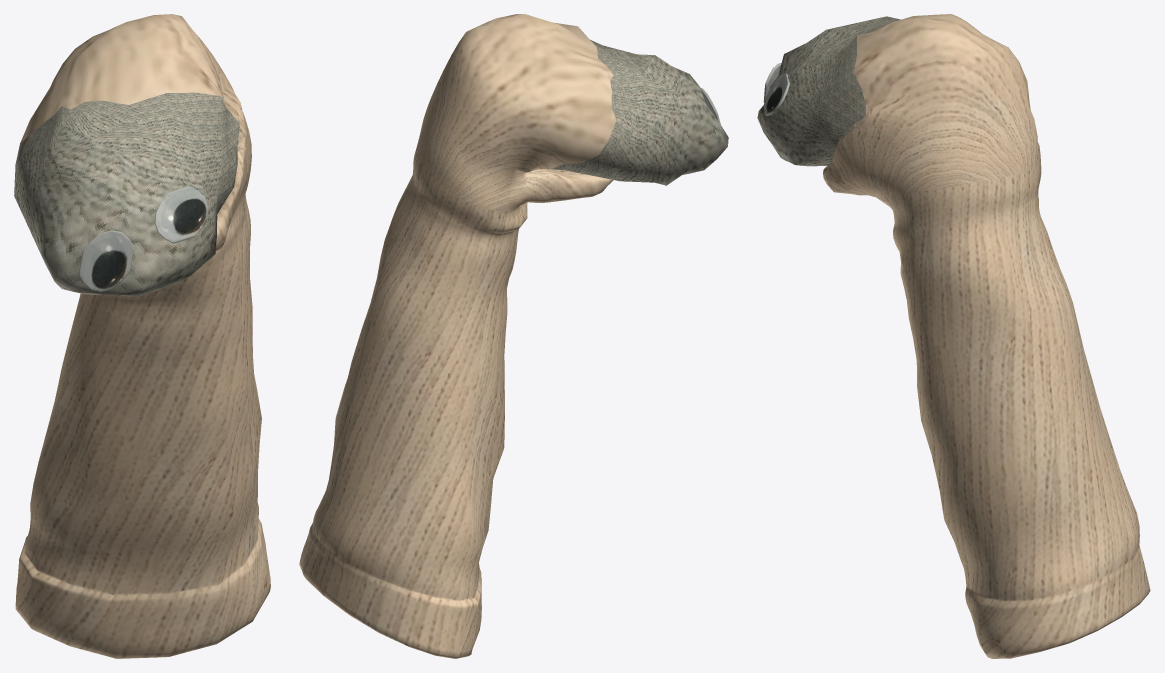
Rendered from arts_and_crafts_sock_puppet_baldis_basics.glb.
3 renders of one model, left to right at view 1: azimuth 30°, elevation 25°; view 2: azimuth 150°, elevation 25°; view 3: azimuth 270°, elevation 25°, orthographic. The views are drawn at different scales.
Parts seen in each view (by area): view 1: Cube, Circle.001, Circle; view 2: Cube; view 3: Cube, Circle.
Part boxes in pixels (x1=…): Cube: x1=14, y1=14, x2=270, y2=658; Circle.001: x1=78, y1=230, x2=134, y2=291; Circle: x1=155, y1=186, x2=208, y2=243; Cube: x1=299, y1=14, x2=728, y2=658; Cube: x1=757, y1=14, x2=1150, y2=658; Circle: x1=763, y1=73, x2=789, y2=115.
Bounding box in the file's own units: 9.65 × 18 × 10.68.
Materials: 3 (3 with a texture image).
